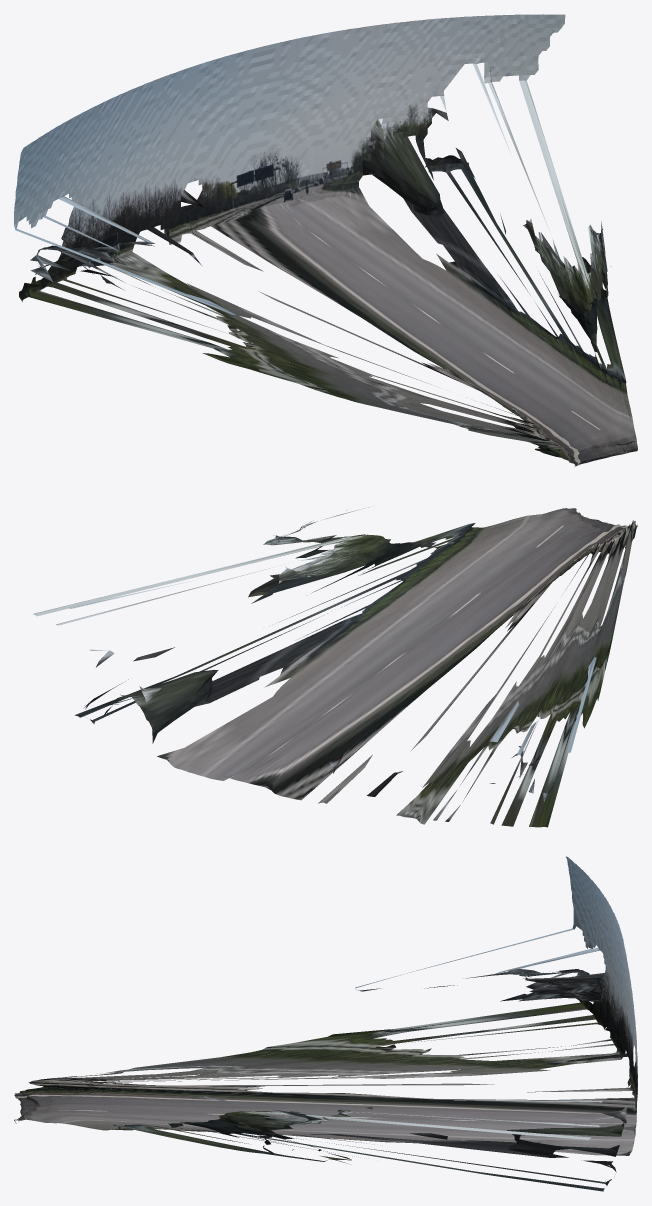
3 renders of one model, top to bottom at view 1: azimuth 30°, elevation 25°; view 2: azimuth 150°, elevation 25°; view 3: azimuth 270°, elevation 25°, orthographic. The views are drawn at different scales.
Visible parts, largest first — view 1: defaultobject; view 2: defaultobject; view 3: defaultobject.
Part boxes in pixels (x1=…): defaultobject: x1=14, y1=14, x2=637, y2=466; defaultobject: x1=33, y1=507, x2=637, y2=827; defaultobject: x1=14, y1=856, x2=637, y2=1191.
Bounding box in the file's own units: 40.44 × 12.44 × 44.65.
1 material, 1 textured.
